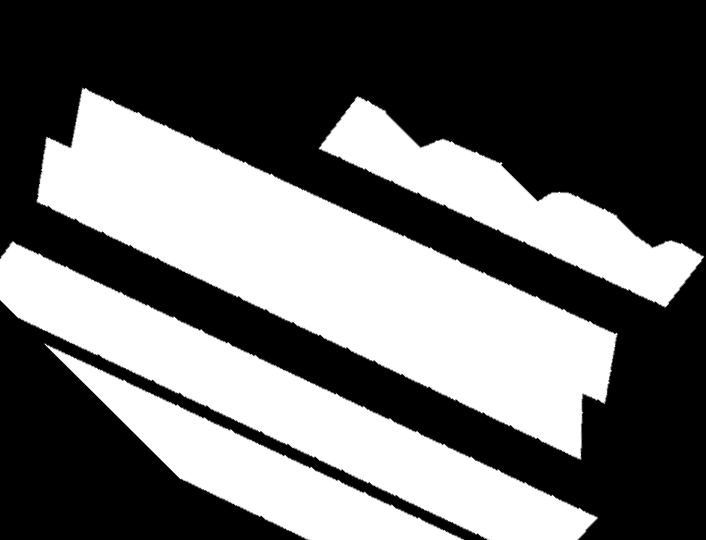parkingspot: (37, 88, 618, 459), (0, 241, 598, 540), (45, 344, 464, 540), (319, 97, 704, 307)
